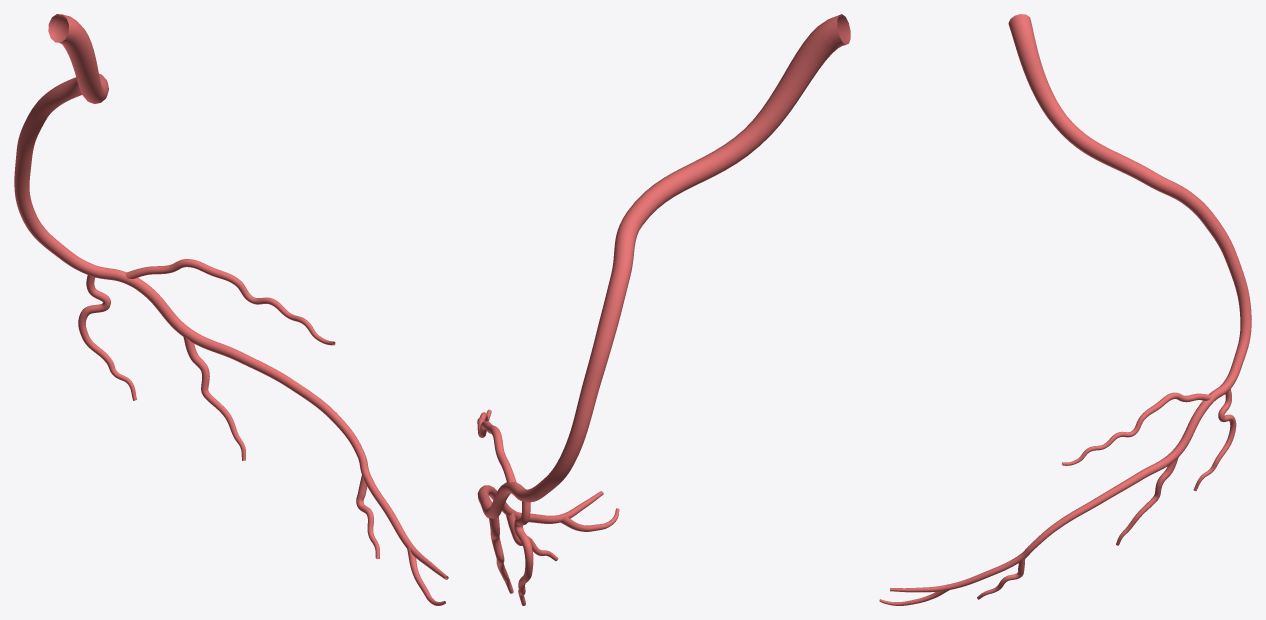
File: Circumflex_artery_heart.glb
3 renders of one model, left to right at view 1: azimuth 30°, elevation 25°; view 2: azimuth 150°, elevation 25°; view 3: azimuth 270°, elevation 25°, orthographic. The views are drawn at different scales.
Visible parts, largest first — view 1: Circumflex_artery_of_heart_BezierCurve.243; view 2: Circumflex_artery_of_heart_BezierCurve.243; view 3: Circumflex_artery_of_heart_BezierCurve.243.
Part boxes in pixels (bbox=[...]): Circumflex_artery_of_heart_BezierCurve.243: bbox=[14, 14, 448, 605]; Circumflex_artery_of_heart_BezierCurve.243: bbox=[477, 14, 850, 605]; Circumflex_artery_of_heart_BezierCurve.243: bbox=[879, 14, 1251, 605].
Size of the model in its own units: 0.0452 by 0.0816 by 0.0575.
